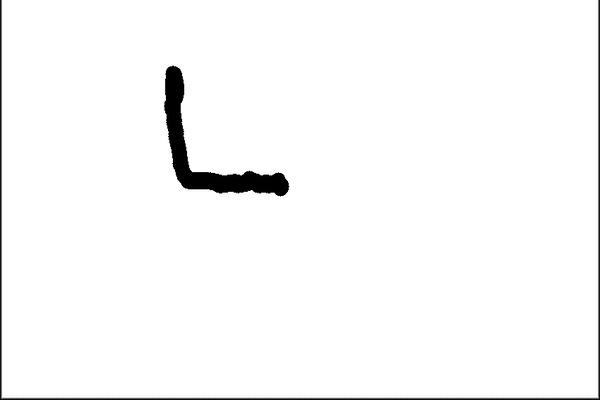L: (157, 58, 294, 203)
